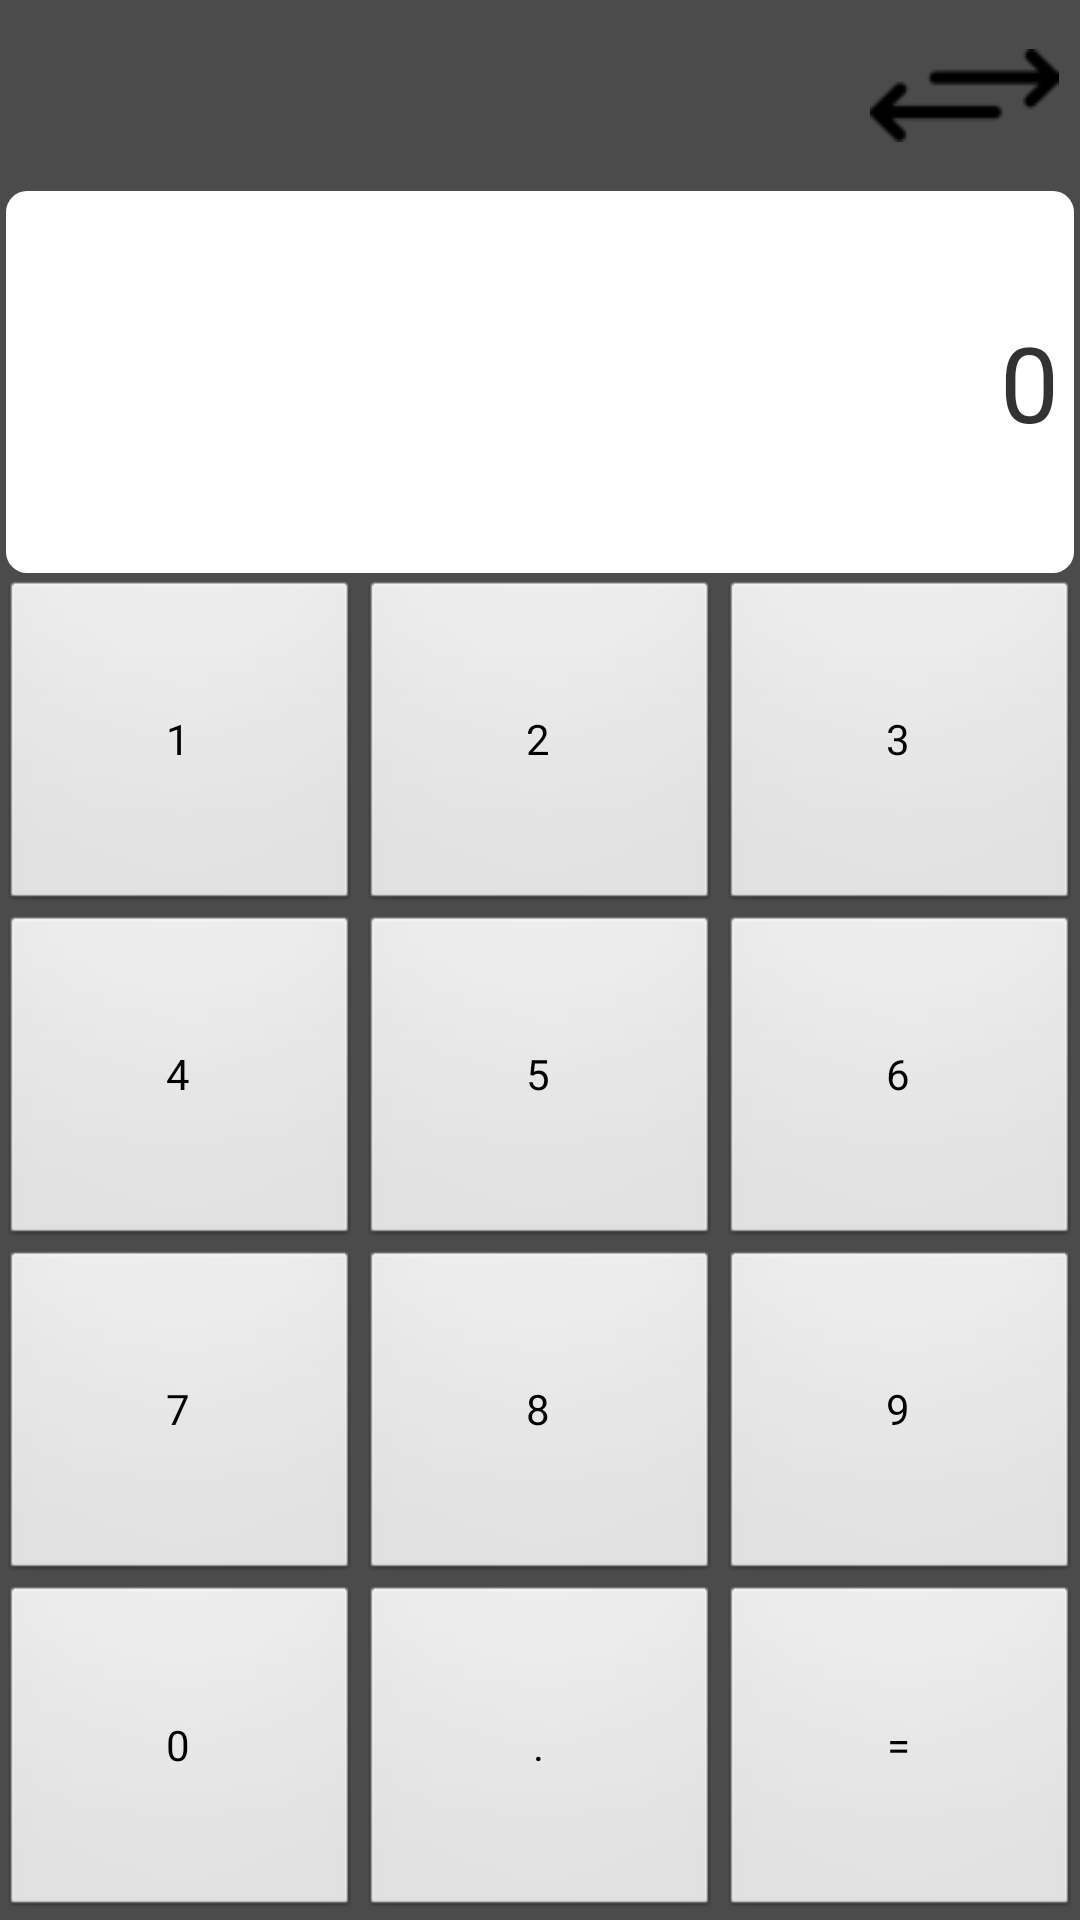

Icons on this 1080px×1920px Android screen, each with the point to tap as (x=x, y=y):
exchange: (x=964, y=95)
